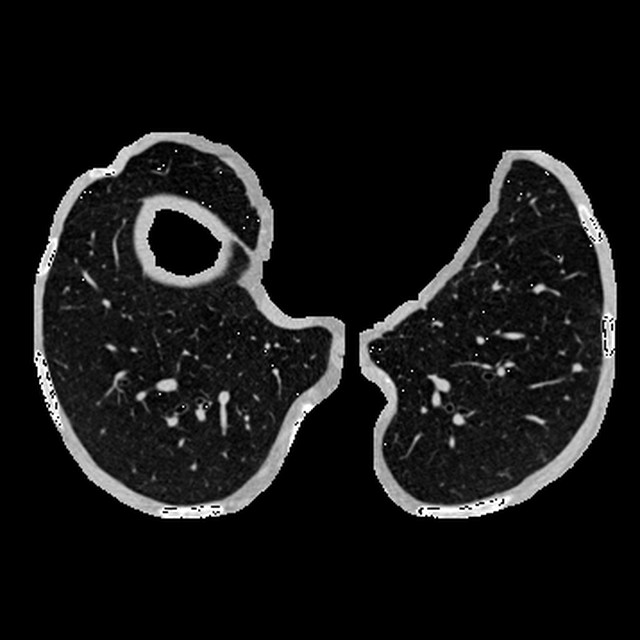PN: (572, 361, 583, 372)
